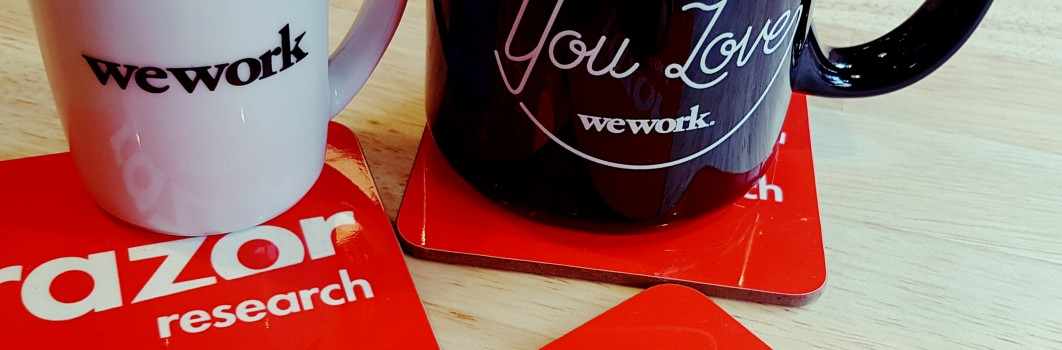wework: (78, 20, 312, 97), (575, 102, 711, 137)
